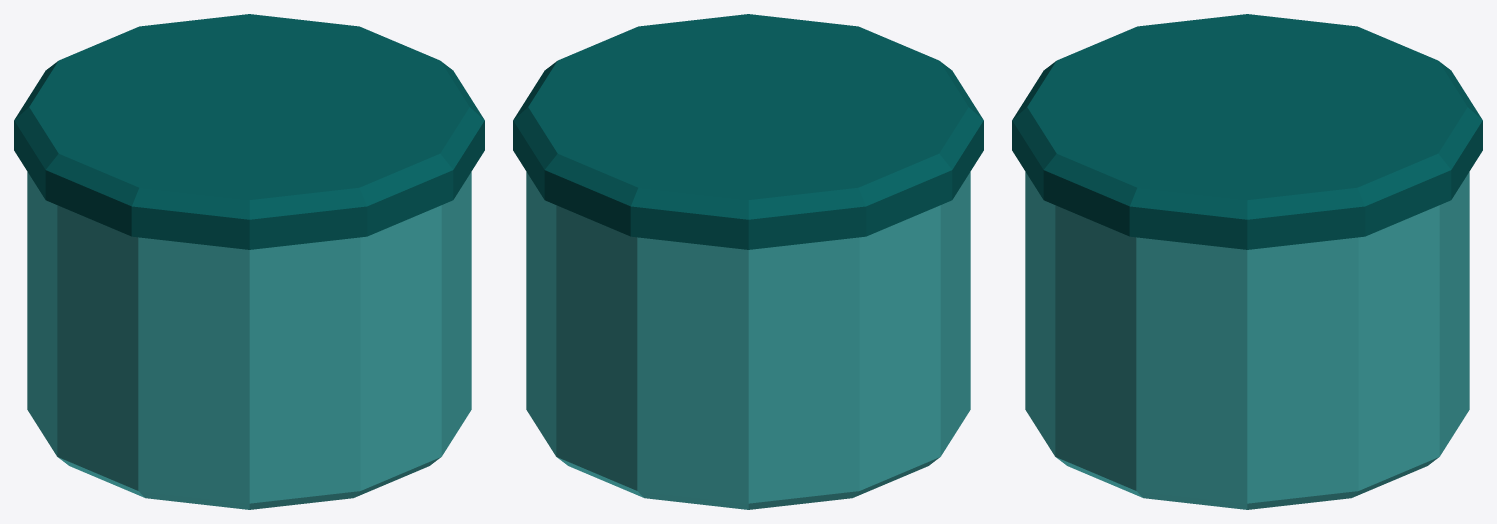
File: Prop_Beauty_04.fbx
3 views of the same model, side by side, from view 1: azimuth 30°, elevation 25°; view 2: azimuth 150°, elevation 25°; view 3: azimuth 270°, elevation 25° (orthographic).
Visible parts, largest first — view 1: Prop_Beauty_04; view 2: Prop_Beauty_04; view 3: Prop_Beauty_04.
Boxes of the visible parts, left/top/right/bottom form: Prop_Beauty_04: left=14, top=14, right=484, bottom=509; Prop_Beauty_04: left=513, top=14, right=983, bottom=509; Prop_Beauty_04: left=1012, top=14, right=1482, bottom=509.
Size of the model in its own units: 22.76 by 16.8 by 22.76.
